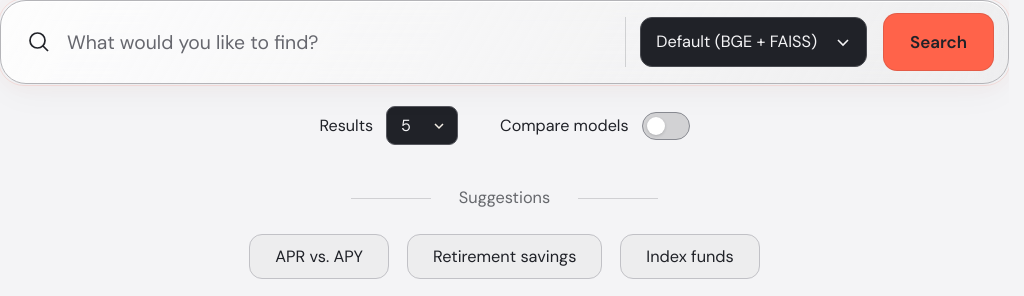
Formulario accesible › las sugerencias rellenan el campo sin inventar búsquedas
This screenshot has width=1024, height=296.
Click the button "APR vs. APY": x=319, y=256 249,234 -> 389,279
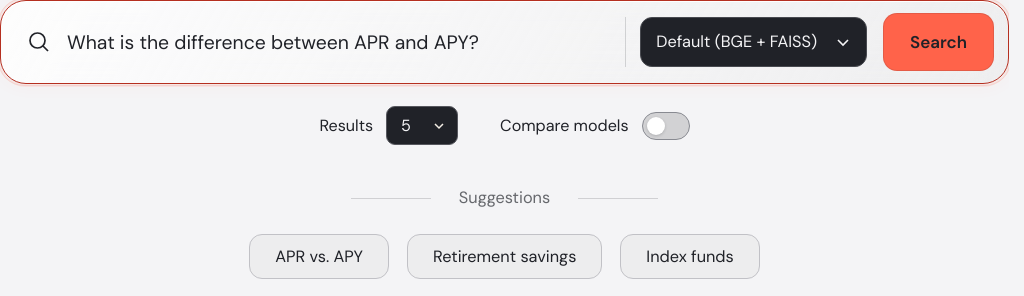
Now the field named "Query" holds "What is the difference between APR and APY?", box 67,16 -> 609,68
